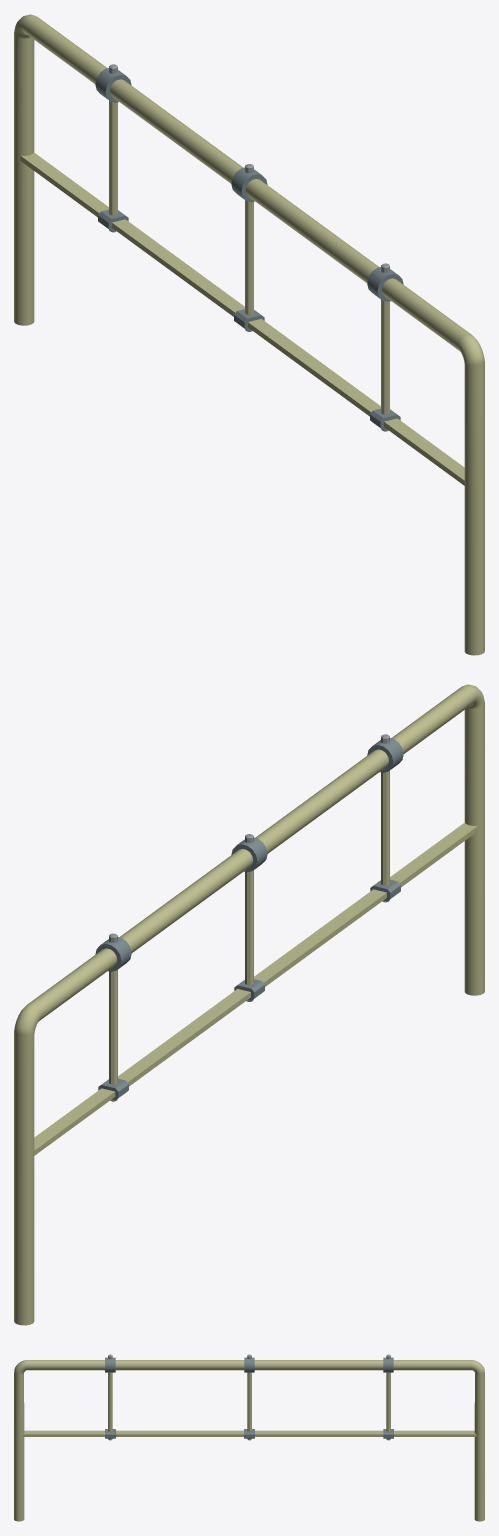
File: Railing_Asset.fbx
The picture shows the model from 3 angles, top to bottom: view 1: azimuth 30°, elevation 25°; view 2: azimuth 150°, elevation 25°; view 3: azimuth 270°, elevation 25°; orthographic projection. The views are drawn at different scales.
Parts seen in each view (by area): view 1: pCylinder29; view 2: pCylinder29; view 3: pCylinder29.
Boxes of the visible parts, x1=… form: pCylinder29: x1=14, y1=14, x2=484, y2=655; pCylinder29: x1=14, y1=684, x2=484, y2=1325; pCylinder29: x1=14, y1=1354, x2=484, y2=1521.
Size of the model in its own units: 0.0656 by 0.7636 by 1.98.
